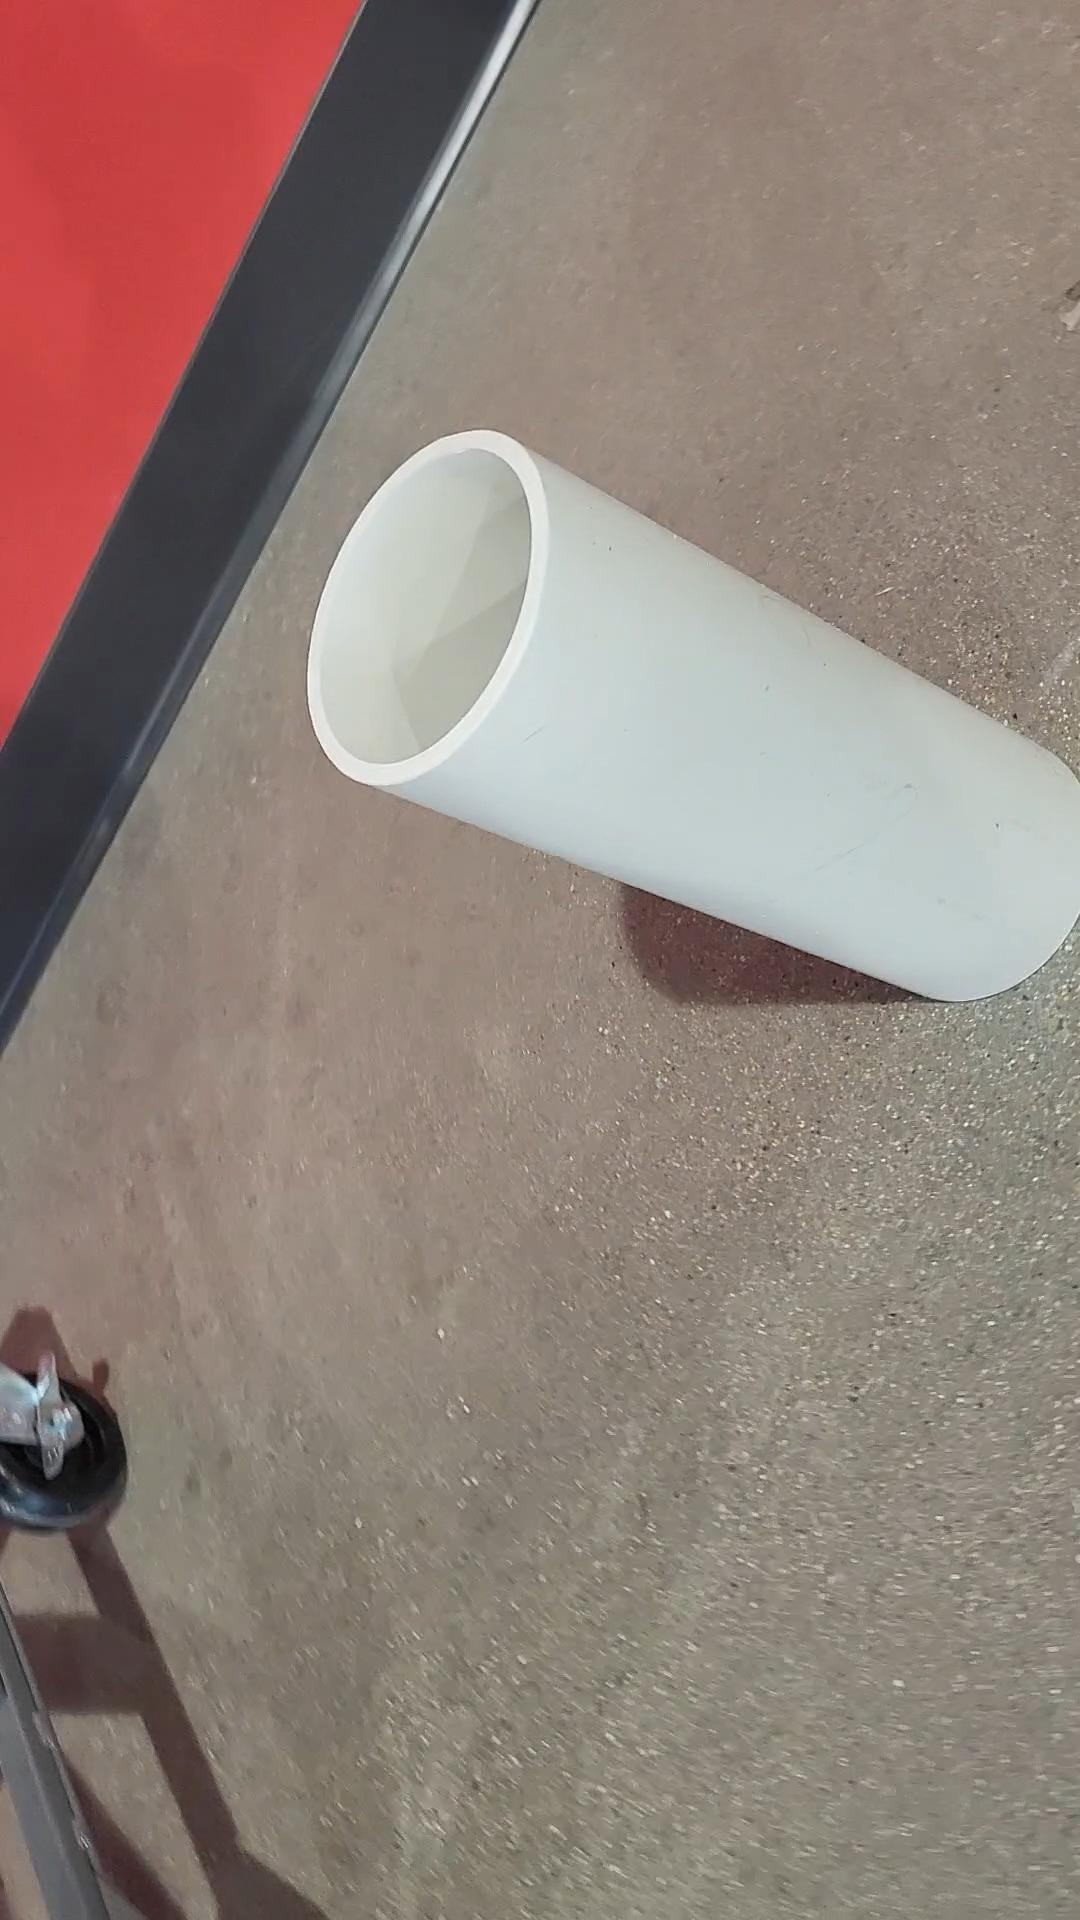coral: (307, 430, 1080, 1000)
